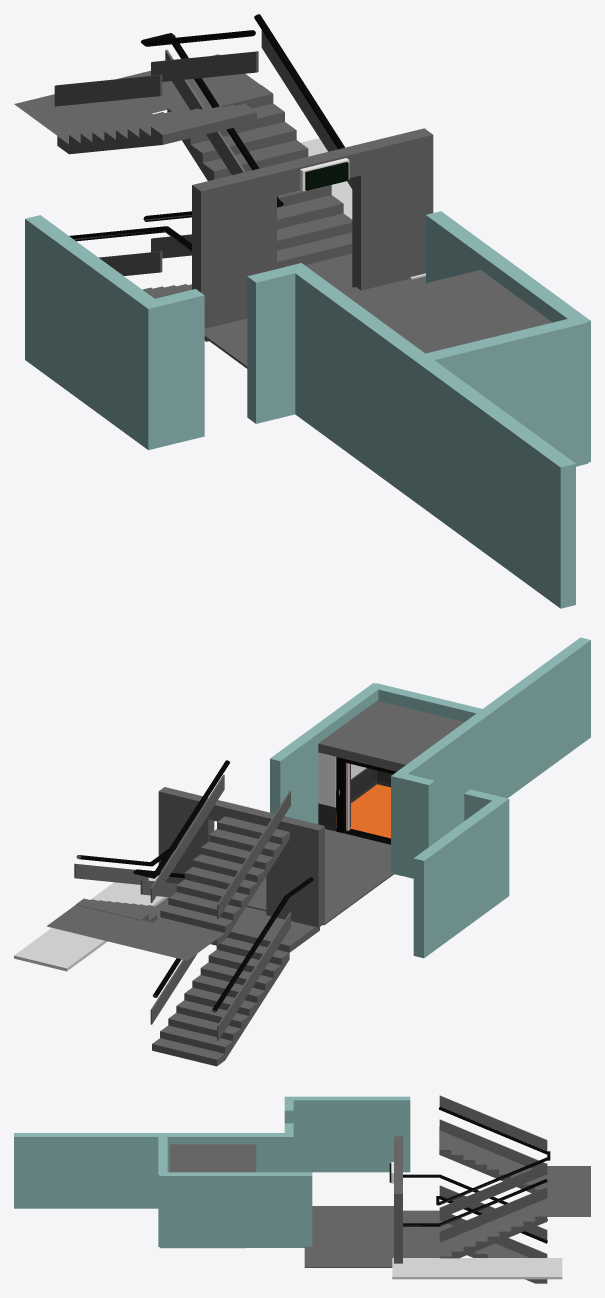
Rendered from homeStairs.FBX.
3 views of the same model, one above another, from view 1: azimuth 30°, elevation 25°; view 2: azimuth 150°, elevation 25°; view 3: azimuth 270°, elevation 25° (orthographic). The views are drawn at different scales.
Visible parts, largest first — view 1: Line023, UTypeStair, Line072, Line031, Line033, Line025, Rectangle018, Line026, UTypeStair001, Object029, Line2090, Box006 (+2 smaller); view 2: UTypeStair, Line023, Line031, Line072, UTypeStair001, Rectangle018, Line026, Line2090, Line033, Box006, Line025, Rectangle016 (+5 smaller); view 3: Line023, UTypeStair, Line026, Line031, Line2090, Box006, Rectangle018, UTypeStair001, Object029, Line072, Line025, Object032 (+1 smaller).
Boxes of the visible parts, x1,y1,x2,y2 form: Line023: (286,263,575,608); UTypeStair: (14,30,352,341); Line072: (192,128,433,328); Line031: (25,215,157,443); Line033: (139,266,306,449); Line025: (421,316,587,466); Rectangle018: (353,270,552,353); Line026: (426,211,590,462); UTypeStair001: (57,104,256,154); Object029: (69,14,344,251); Line2090: (204,276,425,368); Box006: (300,138,425,279); UTypeStair: (46,774,319,1066); Line023: (391,637,590,875); Line031: (413,799,504,958); Line072: (158,787,324,927); UTypeStair001: (153,816,289,945); Rectangle018: (318,700,464,771); Line026: (270,683,383,824); Line2090: (246,829,394,925); Line033: (394,772,509,900); Box006: (14,877,167,971); Line025: (371,683,486,721); Rectangle016: (336,784,390,838); Line023: (14,1133,293,1208); UTypeStair: (403,1095,590,1283); Line026: (159,1172,312,1247); Line031: (290,1096,410,1172); Line2090: (304,1206,393,1267); Box006: (392,1258,562,1279); Rectangle018: (169,1144,256,1172); UTypeStair001: (439,1127,545,1193); Object029: (403,1157,547,1243); Line072: (394,1136,402,1263); Line025: (158,1135,167,1246); Object032: (438,1106,550,1160).
Bounding box in the file's own units: 207 × 153 × 455.
